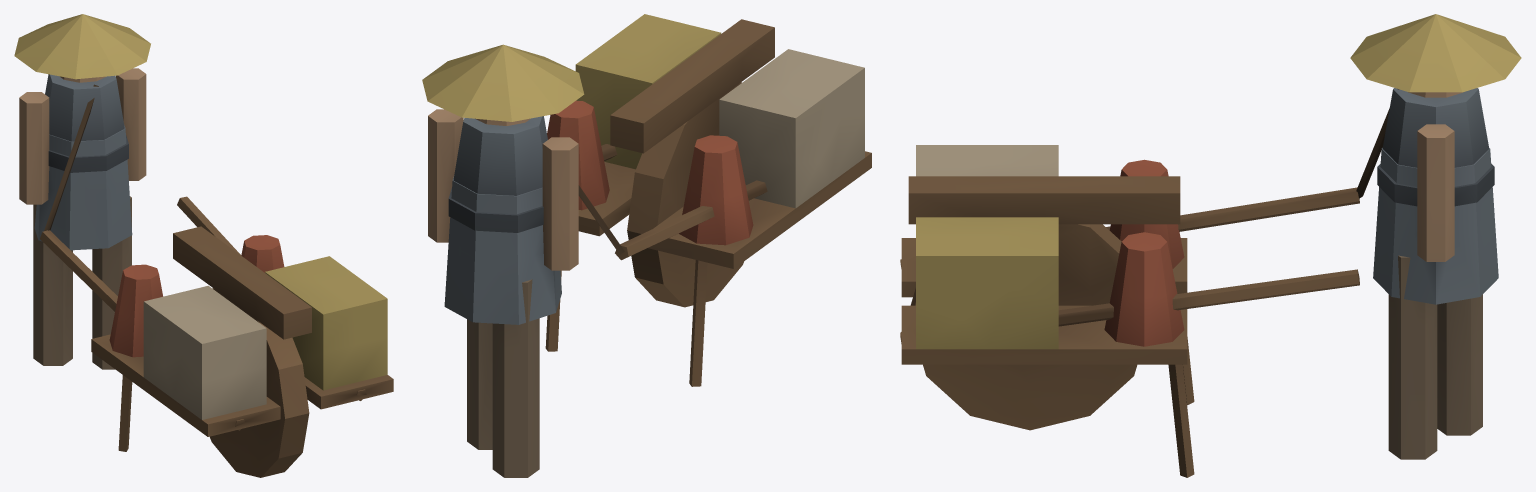
The model's file is handcart.glb.
The picture shows the model from 3 angles, left to right: view 1: azimuth 30°, elevation 25°; view 2: azimuth 150°, elevation 25°; view 3: azimuth 270°, elevation 25°; orthographic projection. The views are drawn at different scales.
Parts seen in each view (by area): view 1: base; view 2: base; view 3: base.
Boxes of the visible parts, x1,y1,x2,y2 form: base: (14, 14, 393, 477); base: (422, 14, 871, 477); base: (900, 14, 1521, 477).
Size of the model in its own units: 0.92 by 1.64 by 2.17.
